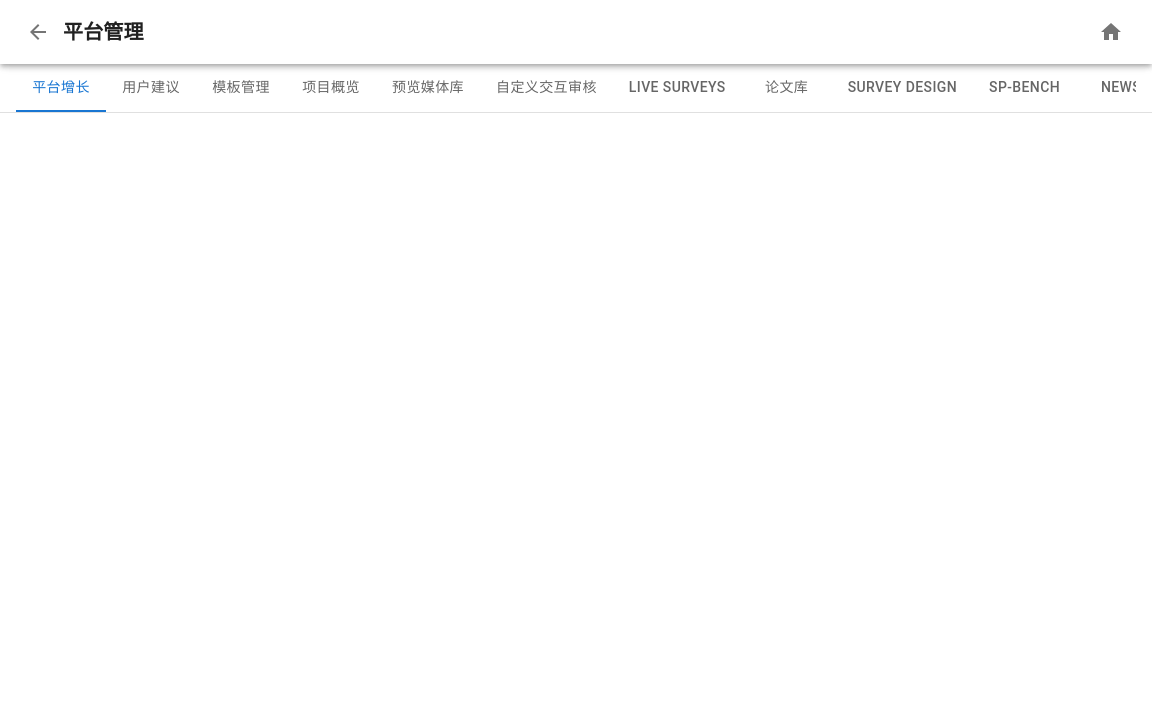
it: a failed copy says the original is unchanged
What coordinates should you click on to do the following:
click the tab "项目概览"
I would click on:
 (331, 88)
Its box is 286,64 -> 376,112.
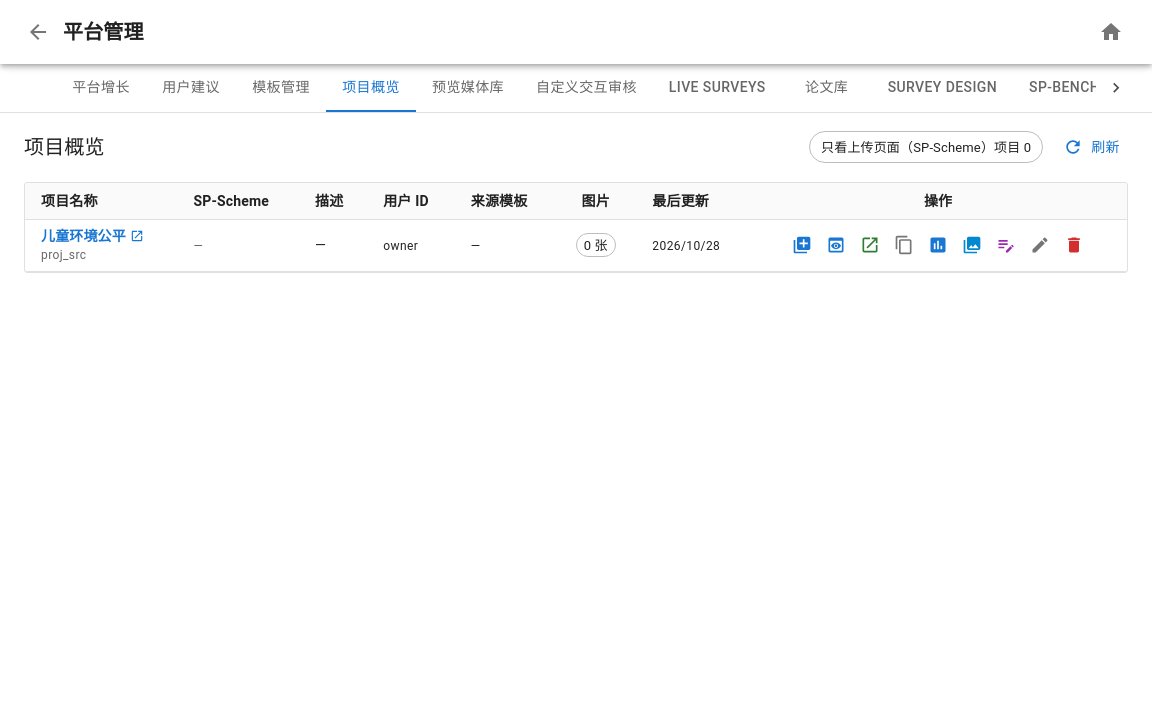
Expected: the link "儿童环境公平" is shown, 41,226 -> 144,246
What coordinates should you click on to do the following:
click the button named "复制项目：儿童环境公平"
I would click on:
 (802, 246)
Its box is 787,230 -> 817,260.
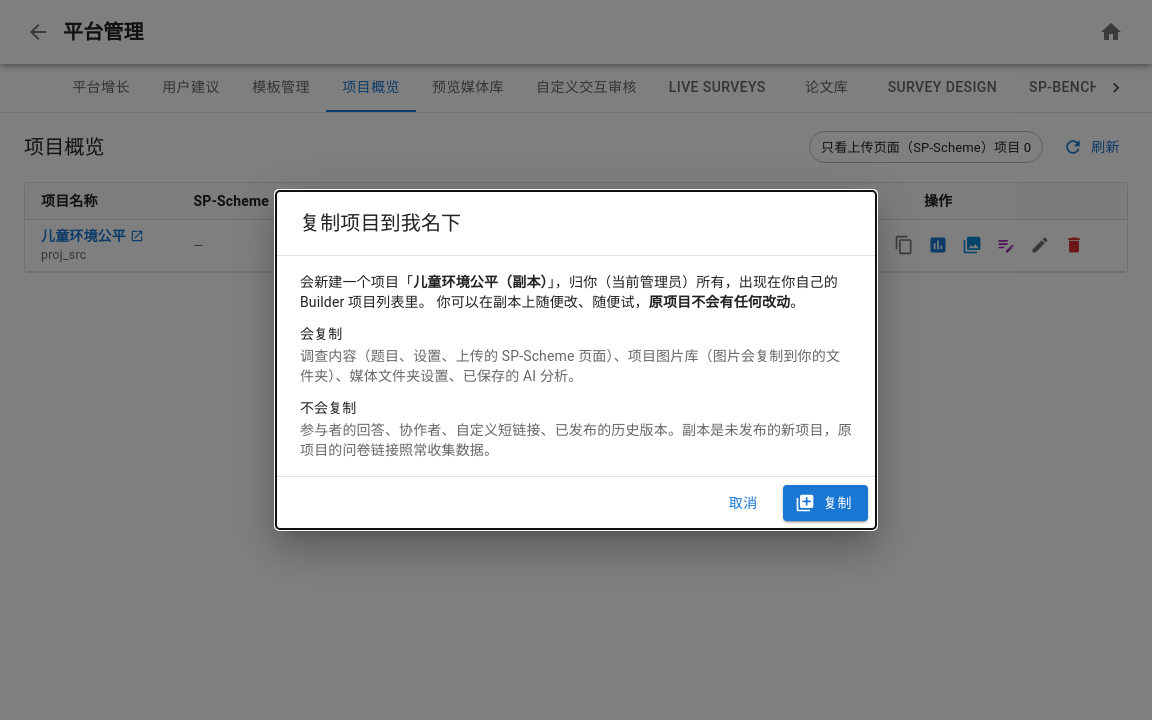
What coordinates should you click on to do the following:
click the button "复制"
I would click on:
 (826, 503)
Its box is 783,485 -> 868,521.
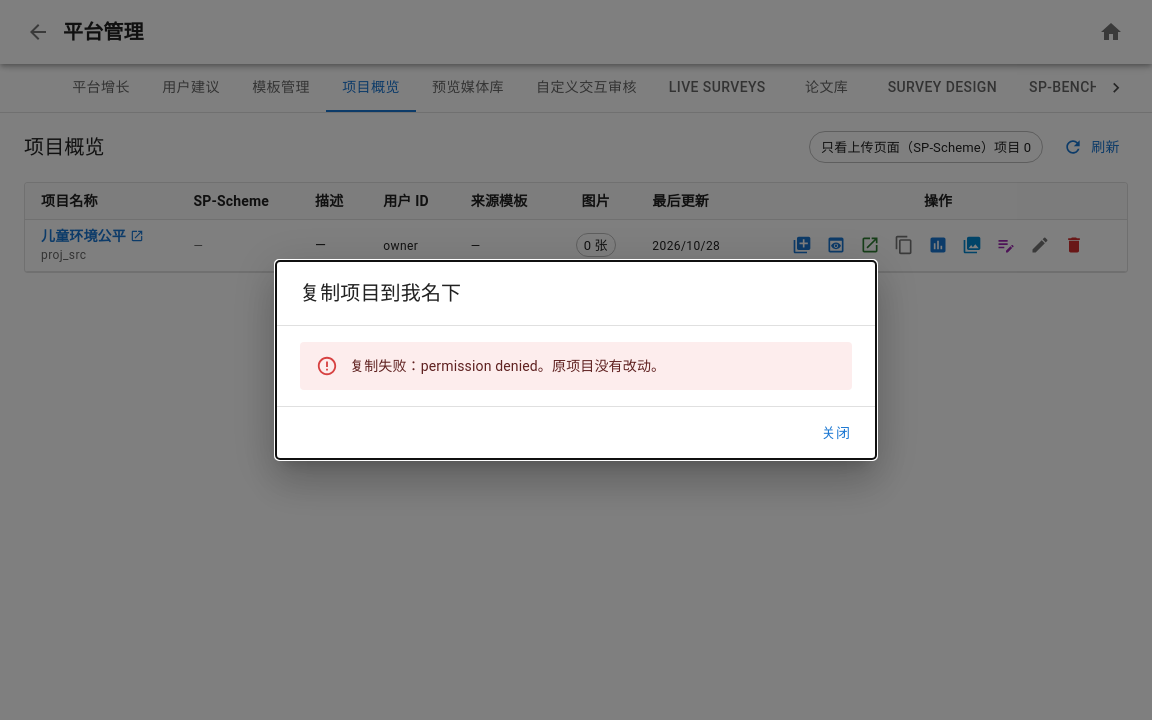
Expected: the text "复制失败：permission denied。原项目没有改动。" is shown, 350,358 -> 665,374
